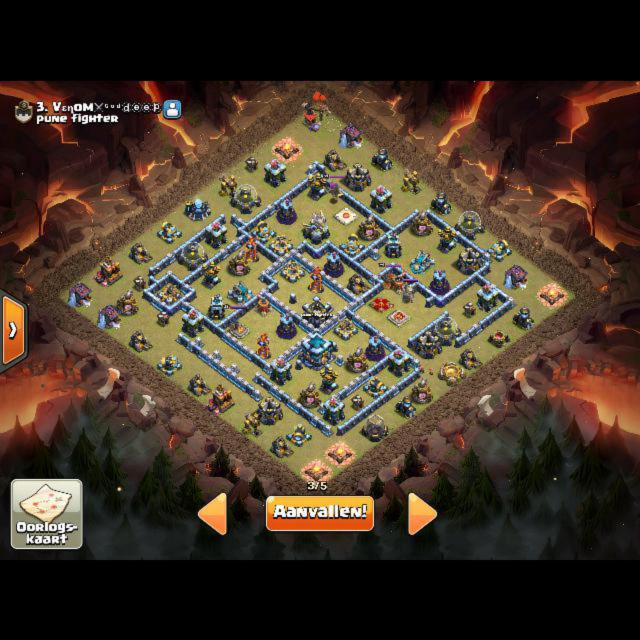AD: (307, 172, 327, 201), (201, 260, 221, 289), (320, 366, 339, 395), (437, 225, 456, 254)
AirSweeper: (254, 292, 273, 316), (390, 270, 408, 294)
BombTower: (208, 293, 224, 320), (385, 231, 401, 257)
Canon: (285, 423, 311, 447), (250, 219, 276, 243), (362, 375, 388, 398), (156, 221, 182, 244), (338, 233, 364, 256), (486, 238, 512, 260), (156, 354, 182, 375)
ClanCastle: (302, 294, 331, 328)
Eagle: (302, 209, 330, 244)
Inferno: (255, 333, 271, 359), (243, 236, 259, 262), (308, 266, 324, 292)
KingPad: (388, 308, 410, 324)
Mortar: (371, 147, 393, 171), (429, 191, 451, 215), (512, 307, 534, 330), (394, 396, 416, 419)
QueenPad: (369, 296, 393, 313)
RcPad: (231, 323, 250, 337)
Scattershot: (228, 279, 254, 304), (410, 249, 434, 274)
TH13: (300, 330, 333, 370)
WardenPad: (336, 207, 357, 223)
WizzTower: (277, 312, 296, 338), (365, 334, 384, 360), (277, 197, 296, 223), (324, 250, 343, 276), (430, 268, 449, 294)
Xbow: (333, 317, 359, 339), (267, 234, 293, 256), (279, 260, 305, 282), (156, 283, 182, 305)
